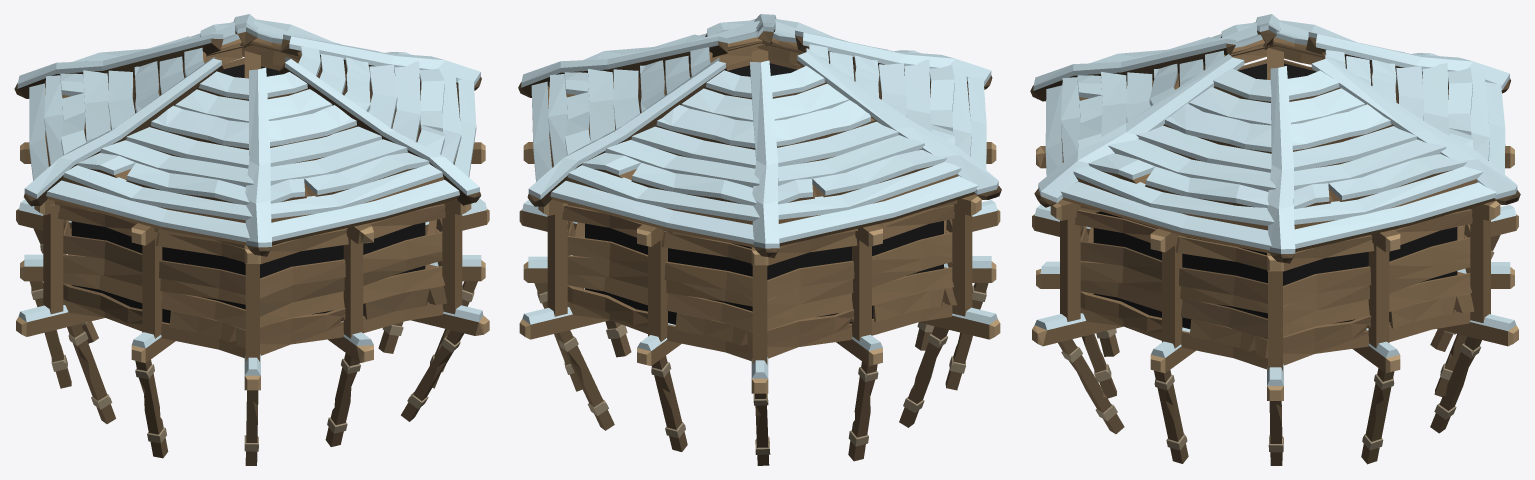
The model's file is SM_Bld_Castle_Wood_Battlement_01_Snow.gltf.
3 renders of one model, left to right at view 1: azimuth 30°, elevation 25°; view 2: azimuth 150°, elevation 25°; view 3: azimuth 270°, elevation 25°, orthographic. The views are drawn at different scales.
Parts seen in each view (by area): view 1: SM_Bld_Castle_Wood_Battlement_01_Snow; view 2: SM_Bld_Castle_Wood_Battlement_01_Snow; view 3: SM_Bld_Castle_Wood_Battlement_01_Snow.
Boxes of the visible parts, x1=… form: SM_Bld_Castle_Wood_Battlement_01_Snow: x1=14, y1=14, x2=489, y2=465; SM_Bld_Castle_Wood_Battlement_01_Snow: x1=518, y1=14, x2=1001, y2=465; SM_Bld_Castle_Wood_Battlement_01_Snow: x1=1030, y1=14, x2=1520, y2=465.
Bounding box in the file's own units: 5.32 × 3.72 × 4.7.
Materials: 1 (1 with a texture image).
